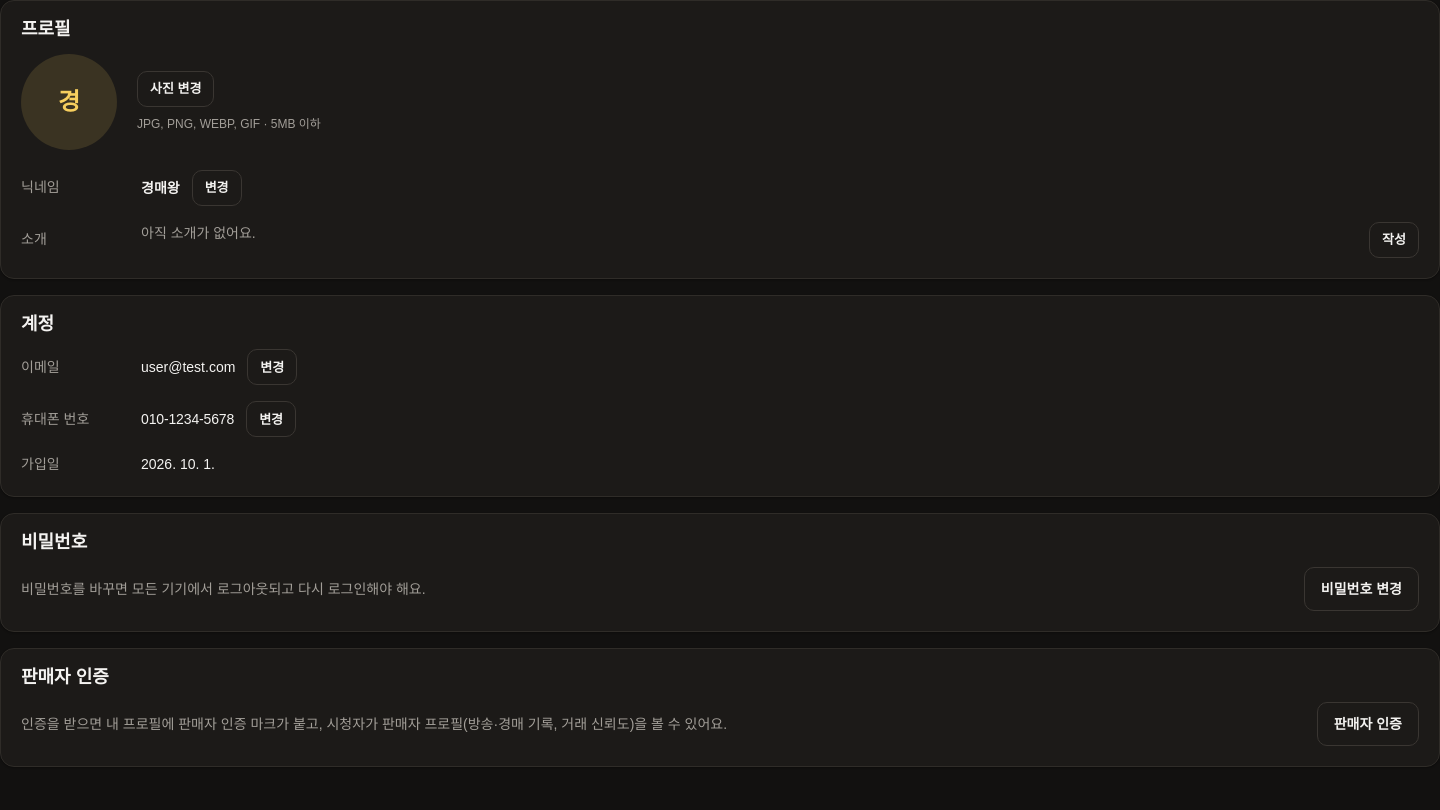
Scenario: MyInfoContent 닉네임 변경 › 바꿀 수 있으면 변경 버튼이 켜져 있고, 입력 안내에 30일 제한을 알린다
The width and height of the screenshot is (1440, 810).
Click the button "변경" next to "경매왕" at (217, 188), box [192, 170, 242, 206]
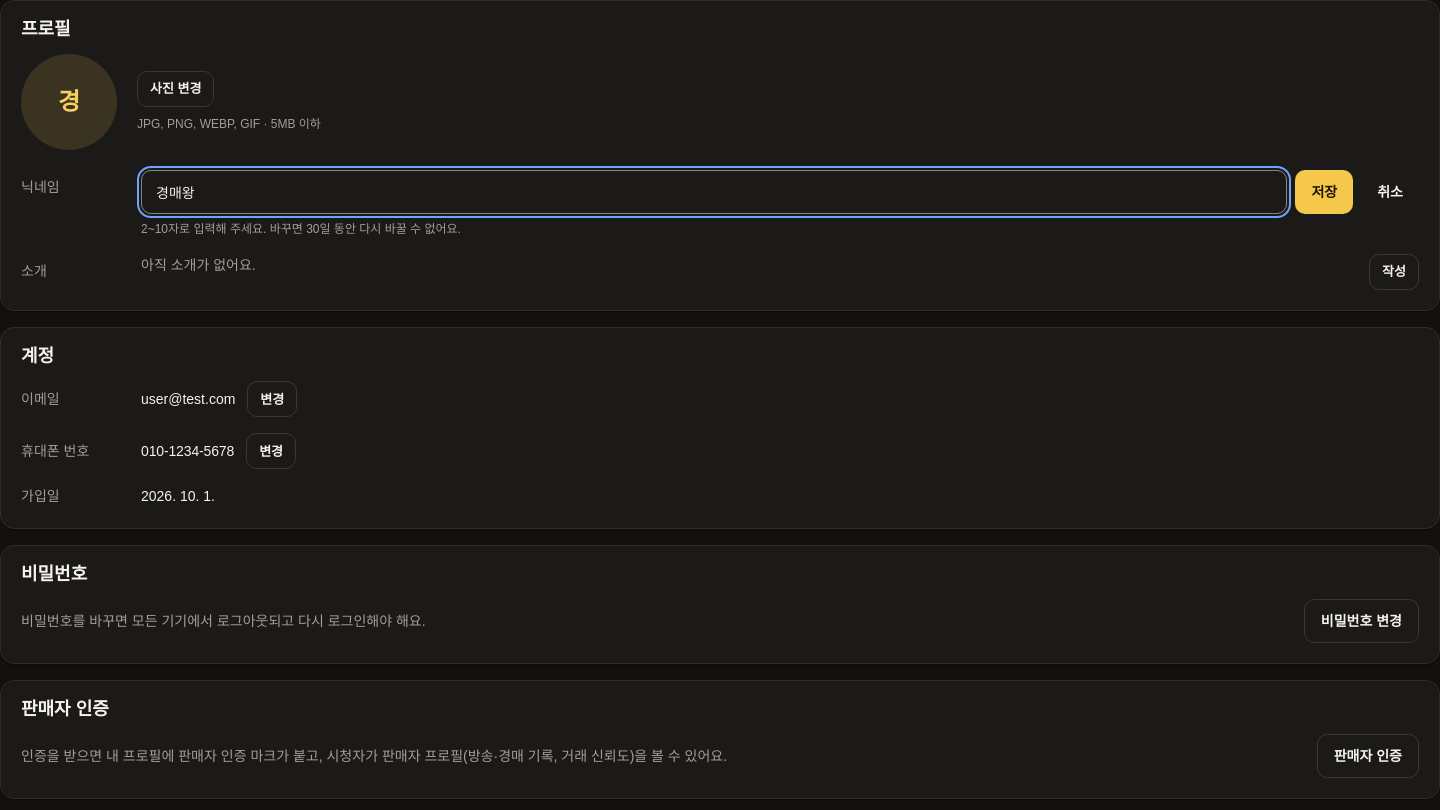
Result: the text "2~10자로 입력해 주세요. 바꾸면 30일 동안 다시 바꿀 수 없어요." is shown at [141, 222, 461, 236]
